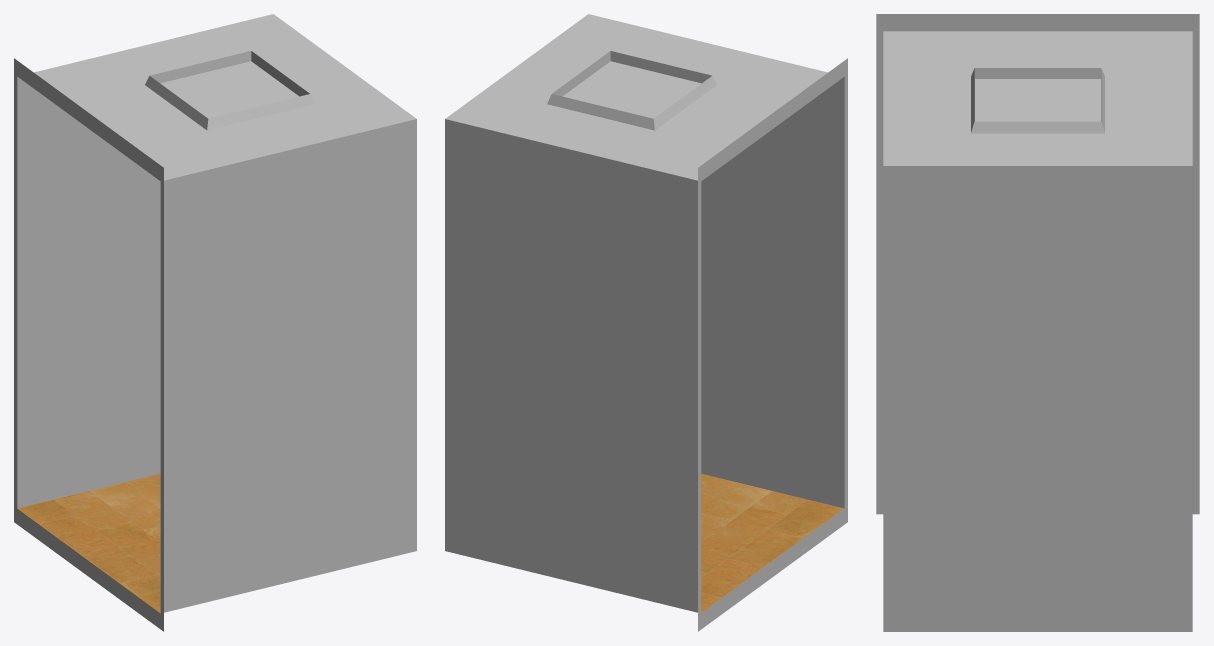
The model's file is elevator_car.fbx.
3 renders of one model, left to right at view 1: azimuth 30°, elevation 25°; view 2: azimuth 150°, elevation 25°; view 3: azimuth 270°, elevation 25°, orthographic. The views are drawn at different scales.
Visible parts, largest first — view 1: Elevator_Car; view 2: Elevator_Car; view 3: Elevator_Car.
Boxes of the visible parts, bbox=[...] form: Elevator_Car: bbox=[14, 14, 416, 631]; Elevator_Car: bbox=[445, 14, 847, 631]; Elevator_Car: bbox=[876, 14, 1199, 631].
Bounding box in the file's own units: 1.57 × 2.73 × 1.6.
